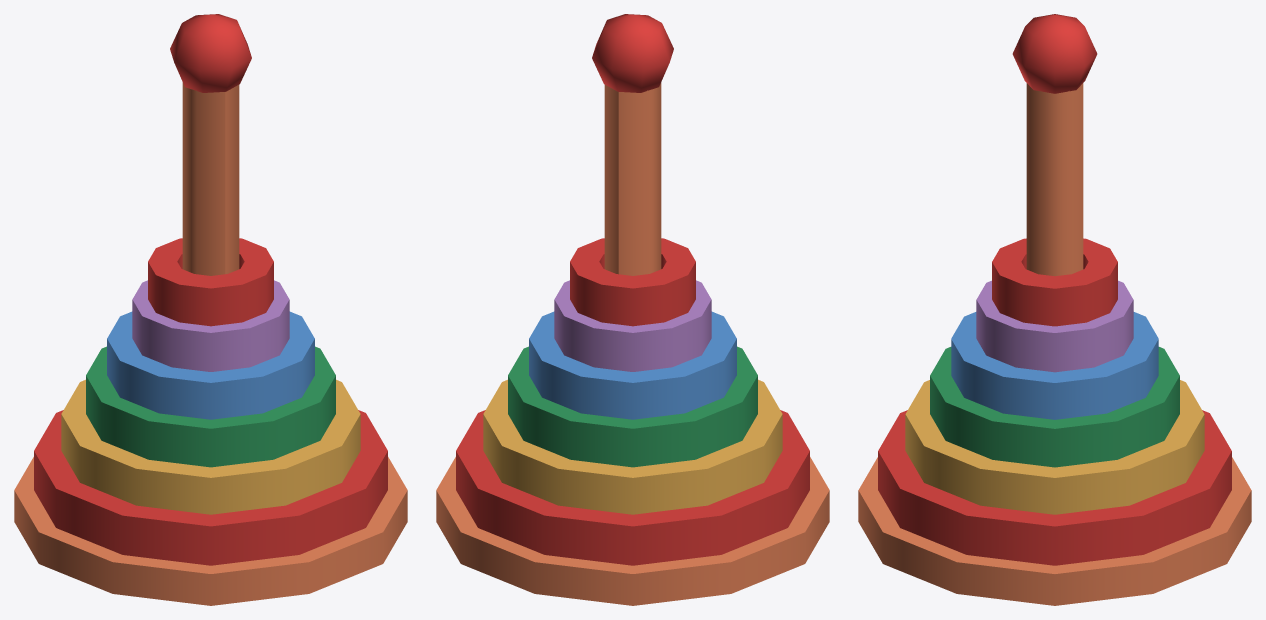
File: ToyStacker_01.fbx
The picture shows the model from 3 angles, left to right: view 1: azimuth 30°, elevation 25°; view 2: azimuth 150°, elevation 25°; view 3: azimuth 270°, elevation 25°; orthographic projection.
Visible parts, largest first — view 1: ToyStacker_01; view 2: ToyStacker_01; view 3: ToyStacker_01.
Part boxes in pixels (x1,y1,x2,y2): ToyStacker_01: [14, 14, 407, 605]; ToyStacker_01: [436, 14, 829, 605]; ToyStacker_01: [858, 14, 1251, 605].
Bounding box in the file's own units: 0.3171 × 0.4459 × 0.3136.
